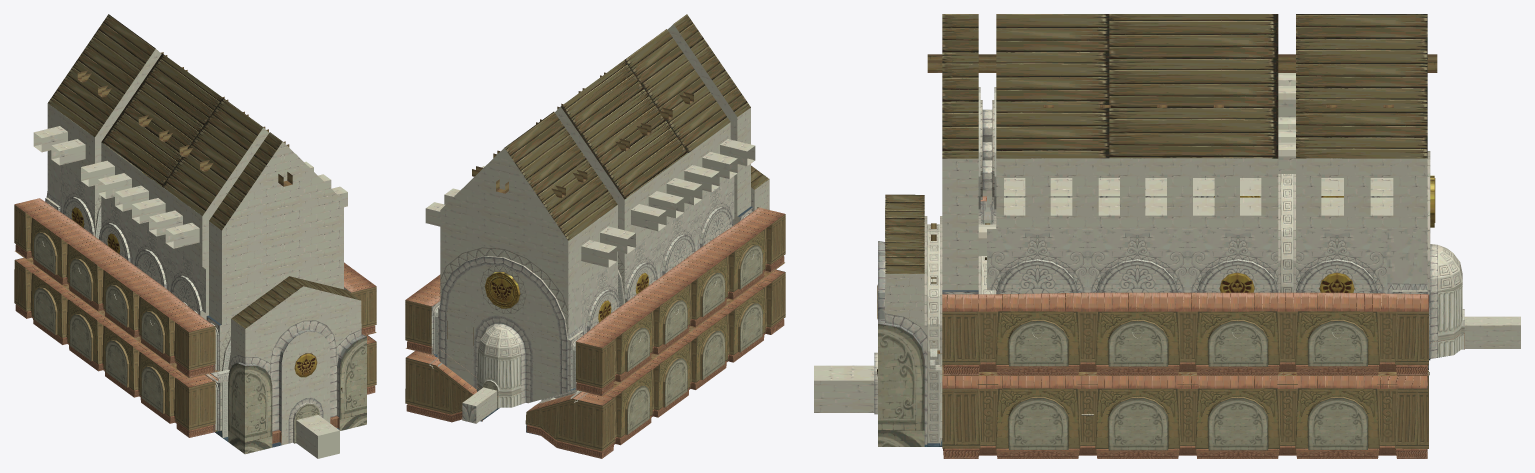
File: hyrulecastle.obj
3 views of the same model, side by side, from view 1: azimuth 30°, elevation 25°; view 2: azimuth 150°, elevation 25°; view 3: azimuth 270°, elevation 25° (orthographic). The views are drawn at different scales.
Parts seen in each view (by area): view 1: n1b8, n24b3, n11b9, n4b7, n14b15, n12b23, n23b24, n20b10, n25b16, n16b12, n22b17, n19b11 (+2 smaller); view 2: n1b8, n24b3, n4b7, n23b24, n14b15, n12b23, n11b9, n20b10, n19b11, n13b18, n22b17, n25b16 (+3 smaller); view 3: n24b3, n1b8, n12b23, n11b9, n14b15, n4b7, n23b24, n19b11, n20b10, n13b18, n22b17, n25b16 (+3 smaller).
Part boxes in pixels (x1=…): n1b8: x1=33, y1=49, x2=361, y2=458; n24b3: x1=48, y1=14, x2=360, y2=365; n11b9: x1=34, y1=232, x2=366, y2=454; n4b7: x1=14, y1=198, x2=376, y2=444; n14b15: x1=45, y1=154, x2=350, y2=389; n12b23: x1=25, y1=213, x2=182, y2=416; n23b24: x1=14, y1=198, x2=376, y2=430; n20b10: x1=46, y1=130, x2=366, y2=443; n25b16: x1=77, y1=52, x2=342, y2=392; n16b12: x1=95, y1=169, x2=230, y2=437; n22b17: x1=71, y1=172, x2=317, y2=377; n19b11: x1=46, y1=126, x2=262, y2=436; n1b8: x1=425, y1=24, x2=769, y2=423; n24b3: x1=504, y1=14, x2=768, y2=240; n4b7: x1=406, y1=207, x2=784, y2=458; n23b24: x1=405, y1=207, x2=785, y2=451; n14b15: x1=431, y1=145, x2=753, y2=423; n12b23: x1=607, y1=224, x2=772, y2=437; n11b9: x1=482, y1=245, x2=762, y2=434; n20b10: x1=438, y1=209, x2=769, y2=404; n19b11: x1=440, y1=140, x2=705, y2=403; n13b18: x1=477, y1=349, x2=521, y2=408; n22b17: x1=447, y1=272, x2=648, y2=372; n25b16: x1=472, y1=72, x2=693, y2=197; n24b3: x1=885, y1=14, x2=1427, y2=342; n1b8: x1=814, y1=73, x2=1520, y2=412; n12b23: x1=977, y1=311, x2=1397, y2=448; n11b9: x1=878, y1=321, x2=1367, y2=450; n14b15: x1=942, y1=158, x2=1442, y2=295; n4b7: x1=874, y1=196, x2=1464, y2=458; n23b24: x1=942, y1=311, x2=1428, y2=448; n19b11: x1=924, y1=100, x2=1462, y2=443; n20b10: x1=874, y1=109, x2=1437, y2=444; n13b18: x1=1438, y1=282, x2=1464, y2=357; n22b17: x1=877, y1=175, x2=1435, y2=319; n25b16: x1=877, y1=54, x2=1437, y2=375.
Size of the model in its own units: 4371 by 6125 by 9979.
Materials: 32 (32 with a texture image).
